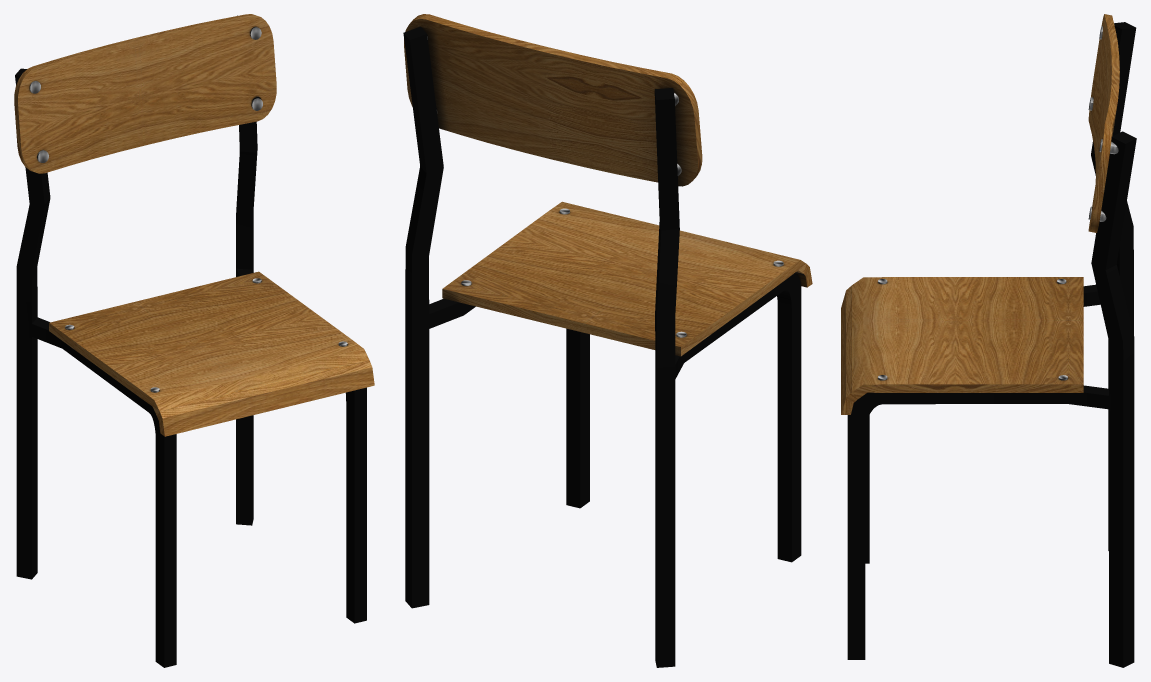
Rendered from ksehuoo.fbx.
3 views of the same model, side by side, from view 1: azimuth 30°, elevation 25°; view 2: azimuth 150°, elevation 25°; view 3: azimuth 270°, elevation 25° (orthographic). The views are drawn at different scales.
Visible parts, largest first — view 1: Kostka.000_Kostka.025; view 2: Kostka.000_Kostka.025; view 3: Kostka.000_Kostka.025.
Part boxes in pixels (x1,y1,x2,y2): Kostka.000_Kostka.025: (14,14,374,667); Kostka.000_Kostka.025: (403,14,812,667); Kostka.000_Kostka.025: (841,14,1136,667).
Size of the model in its own units: 47.26 by 90.79 by 45.2.
9 materials, 9 textured.
